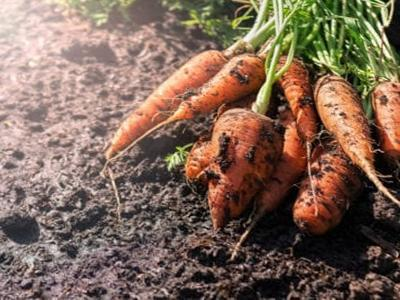carrot: (123, 43, 400, 231), (101, 39, 294, 183), (290, 71, 400, 251), (197, 101, 280, 228)
